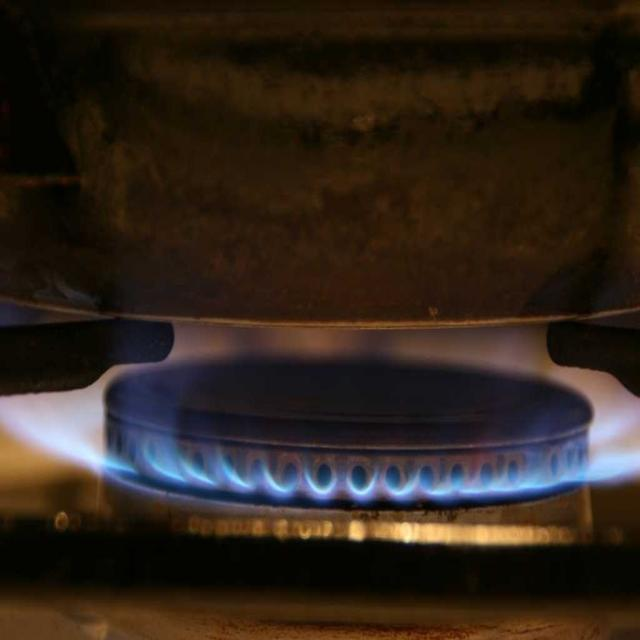Fire: (2, 396, 118, 464), (595, 400, 640, 482)
